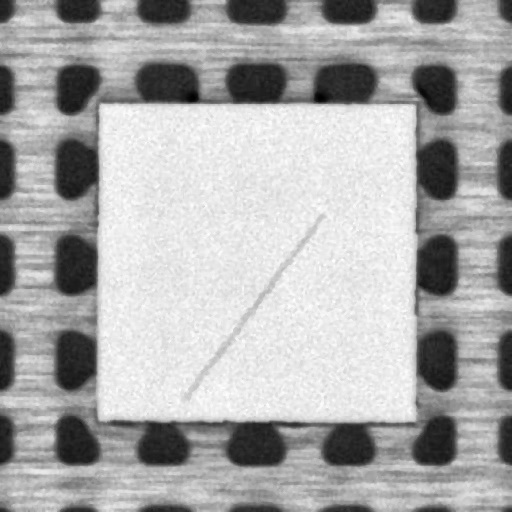DIE_CRACK: (184, 214, 322, 398)
